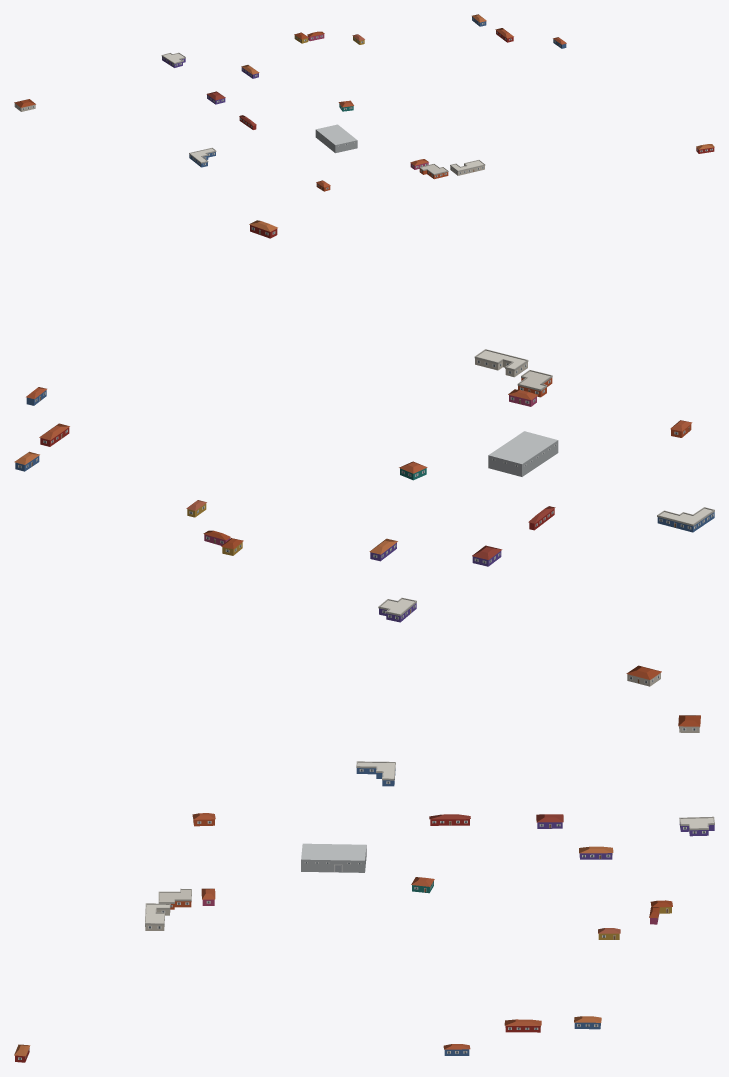
The model's file is msb_sannicolas_17_22.glb.
The picture shows the model from 3 angles, top to bottom: view 1: azimuth 30°, elevation 25°; view 2: azimuth 150°, elevation 25°; view 3: azimuth 270°, elevation 25°; orthographic projection. The views are drawn at different scales.
Visible parts, largest first — view 1: msb_sannicolas_17_22_lod0; view 2: msb_sannicolas_17_22_lod0; view 3: msb_sannicolas_17_22_lod0.
Boxes of the visible parts, x1=… form: msb_sannicolas_17_22_lod0: x1=14, y1=14, x2=714, y2=191; msb_sannicolas_17_22_lod0: x1=14, y1=220, x2=714, y2=686; msb_sannicolas_17_22_lod0: x1=14, y1=715, x2=714, y2=1062.
Size of what is drawn, in the model's own units: 388 by 13.01 by 328.
Materials: 3 (1 with a texture image).
